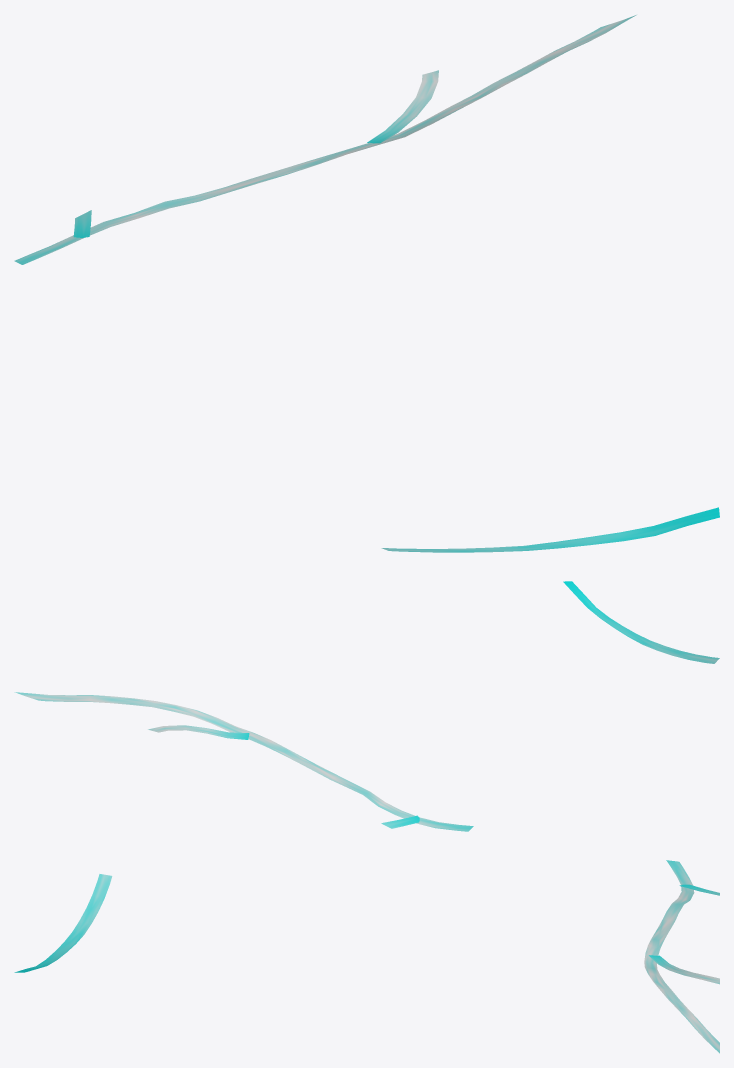
3 renders of one model, top to bottom at view 1: azimuth 30°, elevation 25°; view 2: azimuth 150°, elevation 25°; view 3: azimuth 270°, elevation 25°, orthographic. The views are drawn at different scales.
Visible parts, largest first — view 1: SpaceCenter_Long3_GenerateRoad_Sand_TireTracks_Width_Mesh_x1; view 2: SpaceCenter_Long3_GenerateRoad_Sand_TireTracks_Width_Mesh_x1; view 3: SpaceCenter_Long3_GenerateRoad_Sand_TireTracks_Width_Mesh_x1.
Boxes of the visible parts, <box> form: SpaceCenter_Long3_GenerateRoad_Sand_TireTracks_Width_Mesh_x1: <box>14,15,719,552</box>; SpaceCenter_Long3_GenerateRoad_Sand_TireTracks_Width_Mesh_x1: <box>14,581,719,831</box>; SpaceCenter_Long3_GenerateRoad_Sand_TireTracks_Width_Mesh_x1: <box>14,860,719,1053</box>.
Bounding box in the file's own units: 2008 × 1652 × 253.
